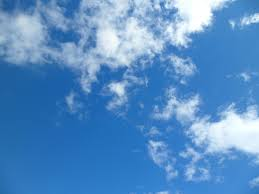sky: (1, 1, 259, 193)
